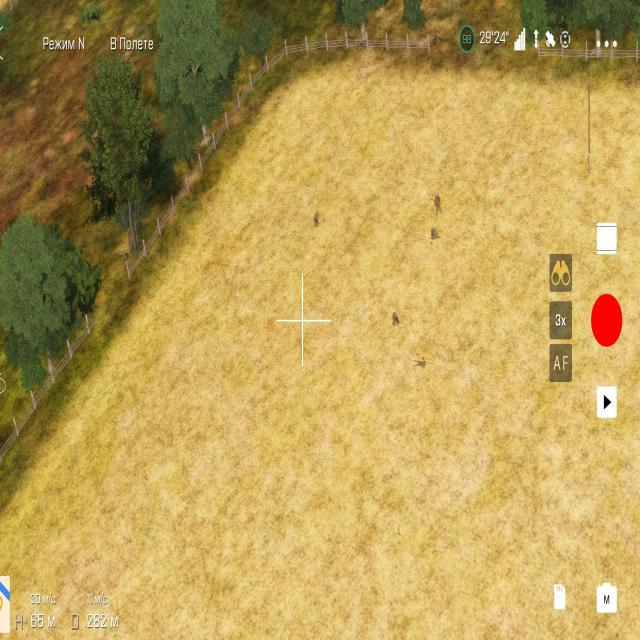infantry: (308, 208, 337, 246), (413, 349, 438, 388), (381, 305, 406, 341), (424, 182, 451, 215), (424, 225, 444, 256)
